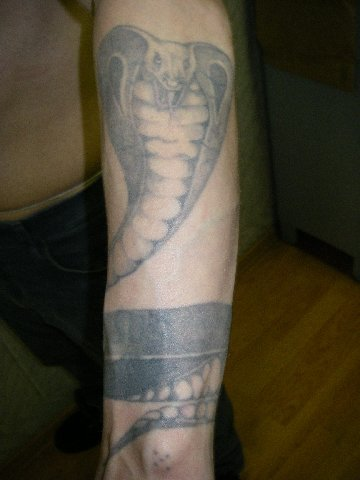tatu7_zmeya: (84, 17, 247, 457)
